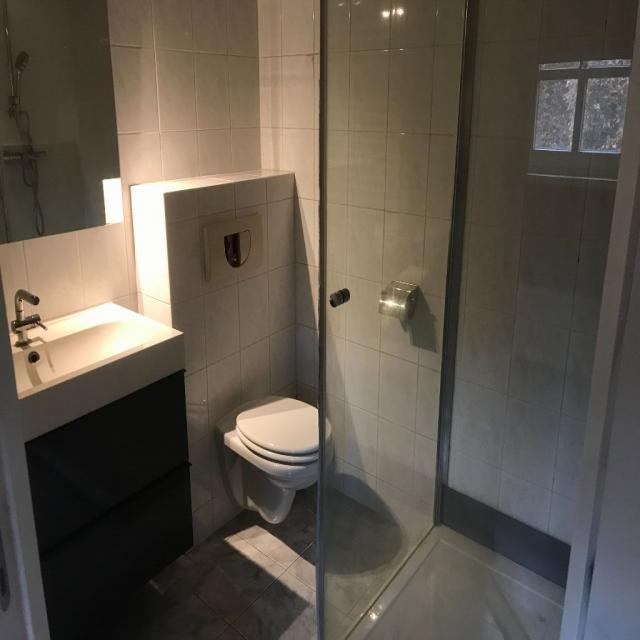douche: (317, 0, 640, 640)
toilet: (200, 212, 336, 526)
wastafel: (23, 368, 195, 621), (8, 288, 184, 398)
